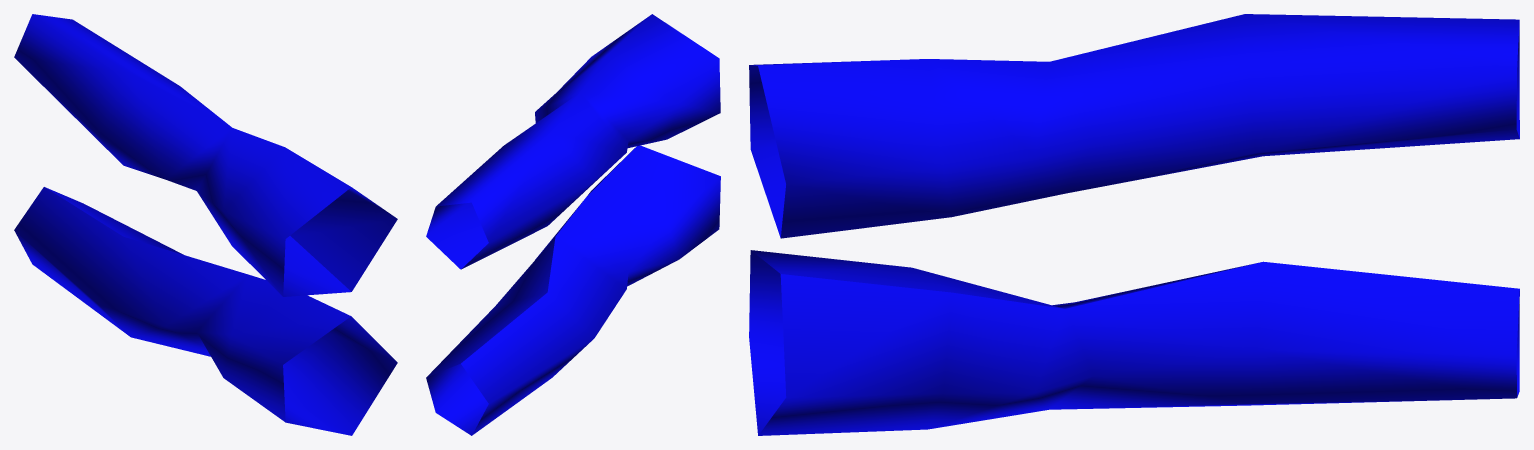
3 views of the same model, side by side, from view 1: azimuth 30°, elevation 25°; view 2: azimuth 150°, elevation 25°; view 3: azimuth 270°, elevation 25° (orthographic). The views are drawn at different scales.
Parts seen in each view (by area): view 1: rg_thigh_001; view 2: rg_thigh_001; view 3: rg_thigh_001.
Part boxes in pixels (box(x1,y1,x2,y2)): rg_thigh_001: box(14, 14, 397, 435); rg_thigh_001: box(426, 14, 720, 435); rg_thigh_001: box(749, 14, 1519, 435).
Size of the model in its own units: 21.87 by 36.36 by 64.86.
